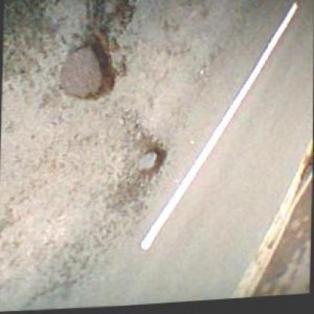Hueco: (54, 43, 119, 105), (133, 148, 170, 179)
